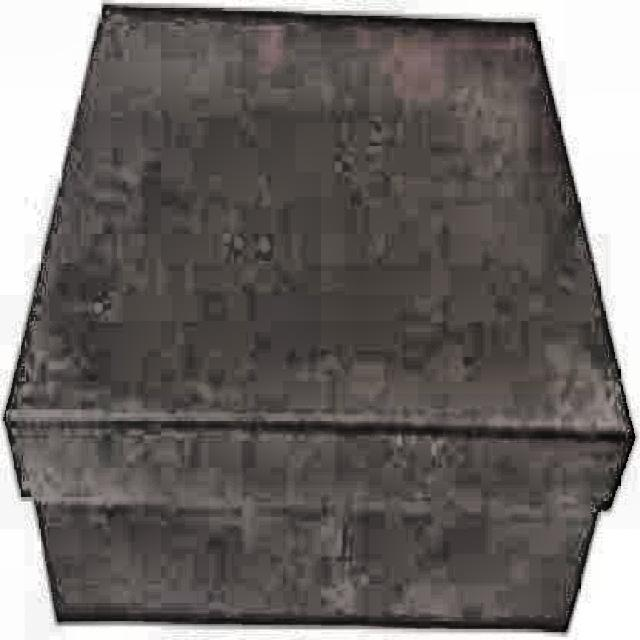Cardbox: (14, 0, 606, 640)
